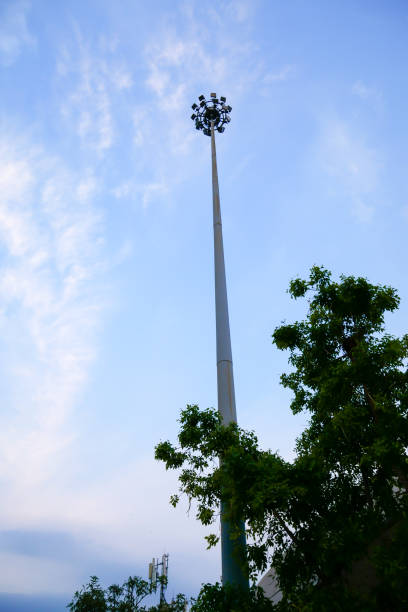light_pole: (204, 129, 259, 606)
